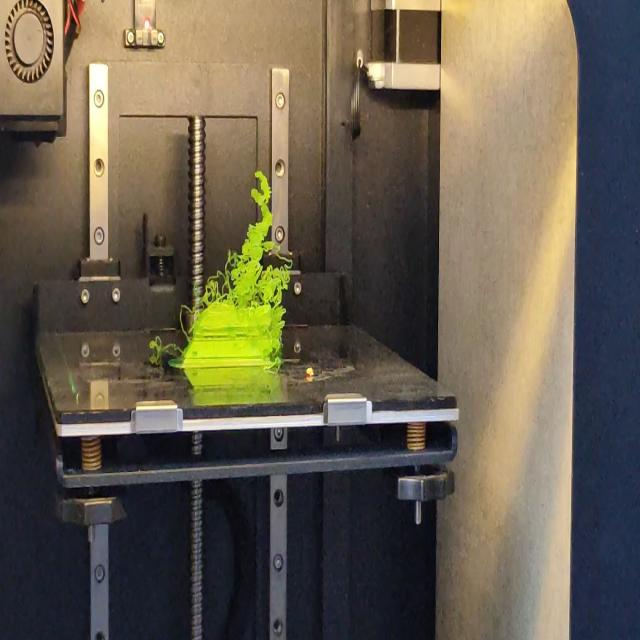spaghetti: (195, 170, 293, 306), (148, 337, 180, 365), (271, 308, 285, 369), (178, 297, 192, 354)
